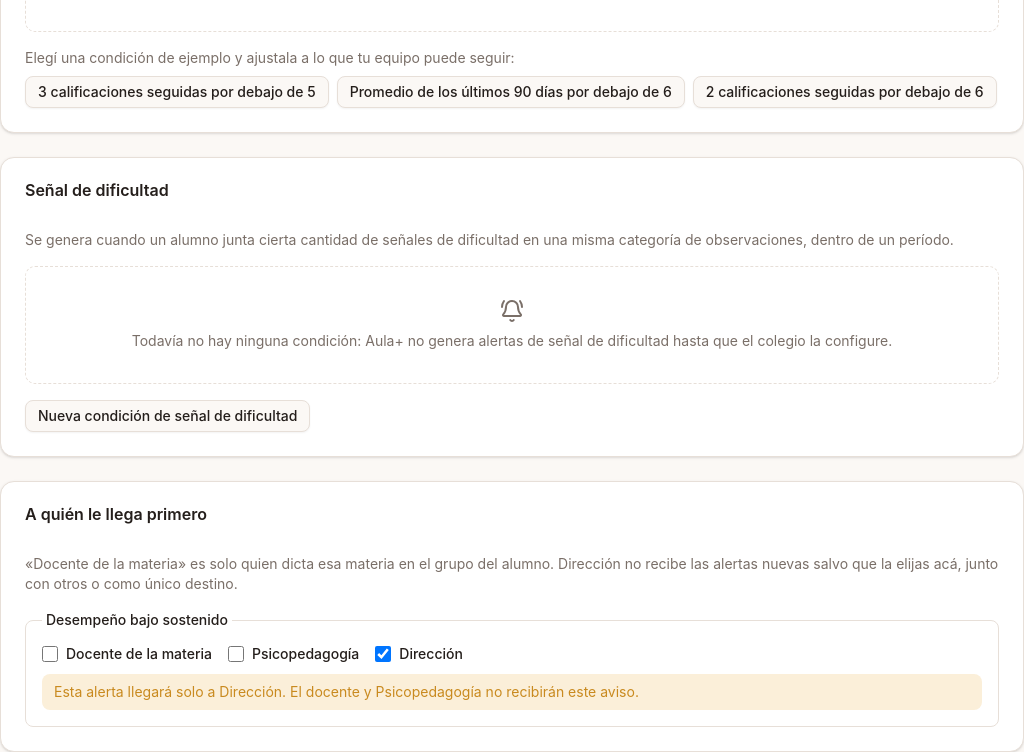
it: AlertSettingsPage › drops the warning as soon as another recipient is added
(page scrolled)
Expected: the text "Esta alerta llegará solo a Dirección" is shown, [54,683,639,700]
Click the checkbox labelled "Psicopedagogía" at (236, 654), box [228,646,244,662]
(page scrolled)
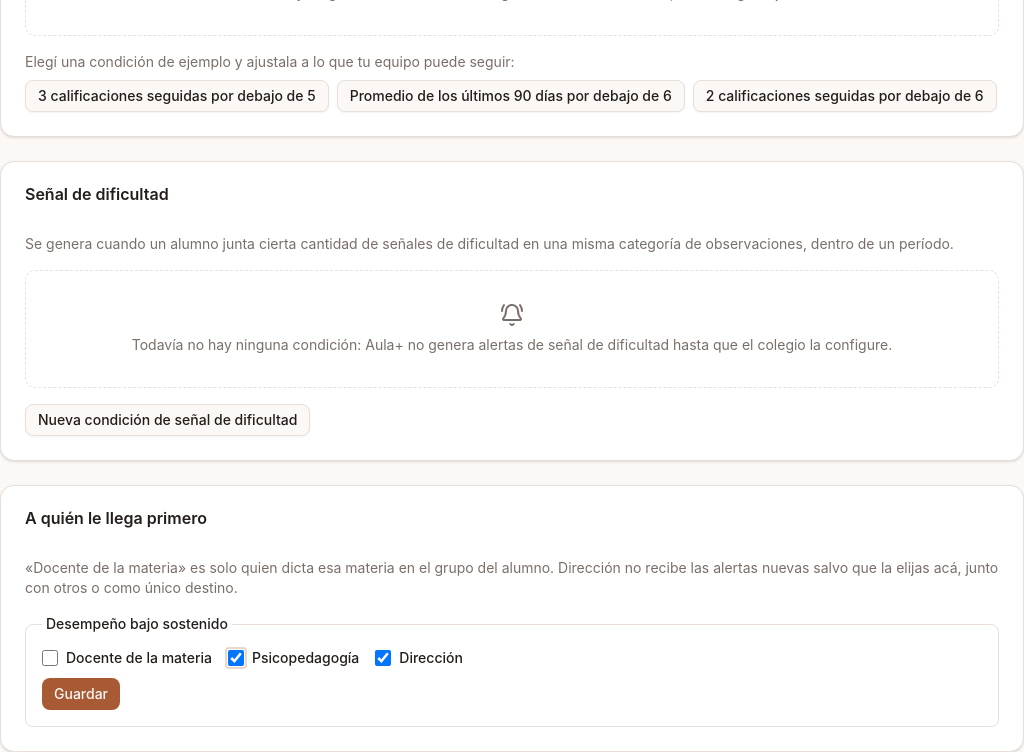
Expected: the text "Esta alerta llegará solo a Dirección" is gone
Expected: the button "Guardar" is shown, [42,678,120,710]
